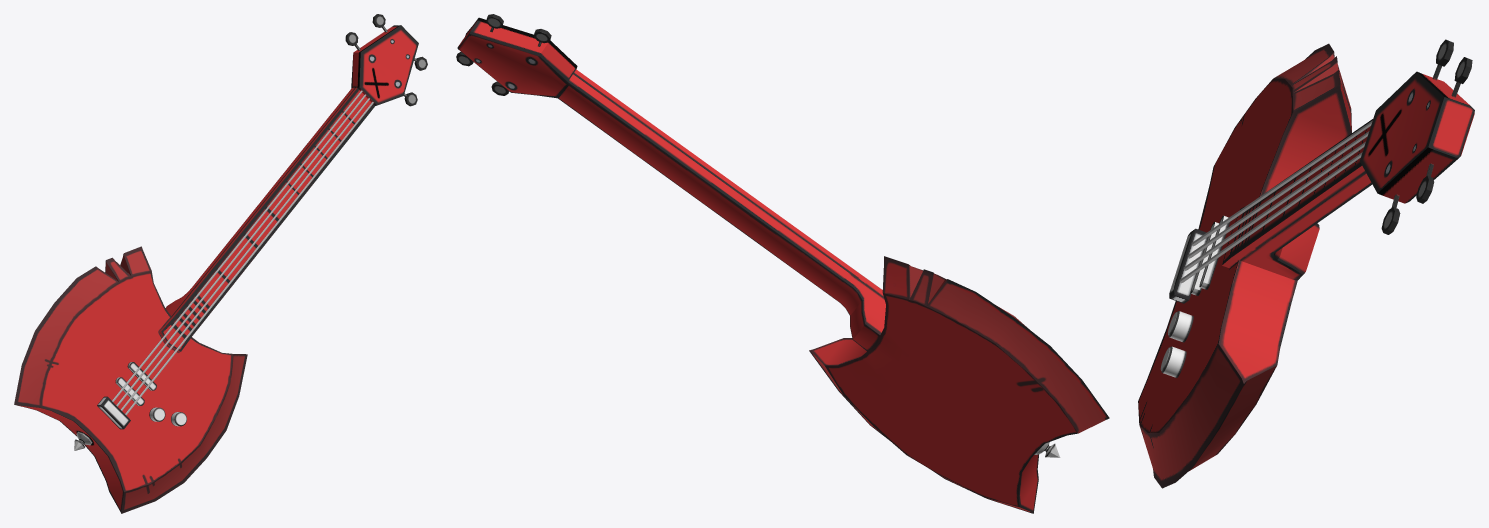
Rendered from BAJO MARCELINE.fbx.
3 views of the same model, side by side, from view 1: azimuth 30°, elevation 25°; view 2: azimuth 150°, elevation 25°; view 3: azimuth 270°, elevation 25° (orthographic). The views are drawn at different scales.
Parts seen in each view (by area): view 1: Circle.008; view 2: Circle.008; view 3: Circle.008.
Boxes of the visible parts, <box> form: Circle.008: <box>14,14,427,513</box>; Circle.008: <box>456,14,1109,513</box>; Circle.008: <box>1138,39,1474,488</box>.
Bounding box in the file's own units: 89.81 × 67.6 × 28.65.
